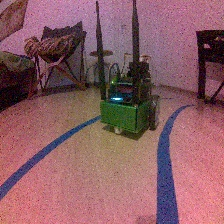rob: (98, 60, 161, 135)
